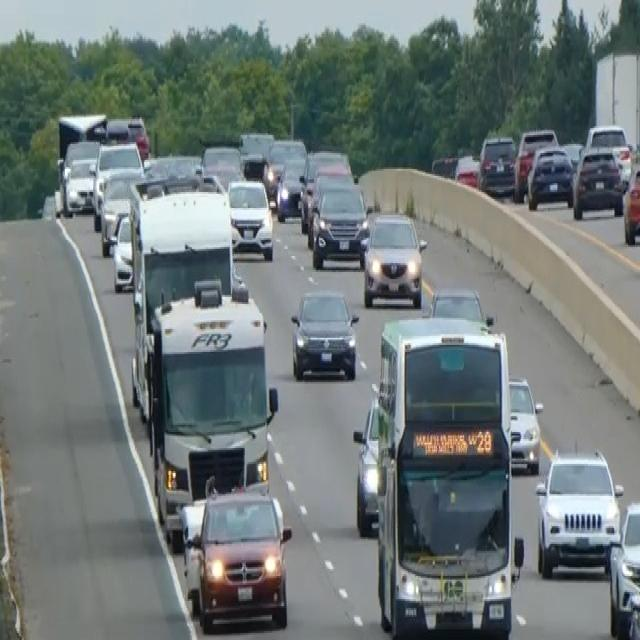bus: (373, 313, 521, 638), (147, 276, 278, 540), (129, 189, 242, 423)
car: (181, 477, 292, 631), (534, 444, 623, 578), (124, 153, 203, 288), (289, 286, 359, 381), (362, 210, 427, 308), (310, 180, 370, 268), (352, 387, 385, 537), (298, 148, 352, 235), (91, 139, 143, 229), (606, 500, 639, 638), (226, 176, 273, 260), (99, 167, 143, 254), (572, 144, 623, 219), (508, 373, 543, 475), (513, 126, 558, 199), (526, 144, 574, 210), (58, 139, 100, 213), (584, 123, 633, 181), (266, 135, 306, 205), (427, 284, 490, 324), (478, 134, 516, 196), (199, 137, 244, 188), (275, 154, 307, 220), (104, 114, 150, 158), (110, 212, 134, 292), (622, 160, 639, 245), (242, 150, 270, 188), (238, 130, 273, 158), (454, 153, 480, 188), (430, 153, 457, 178)
motorcycle: (624, 590, 639, 638)
